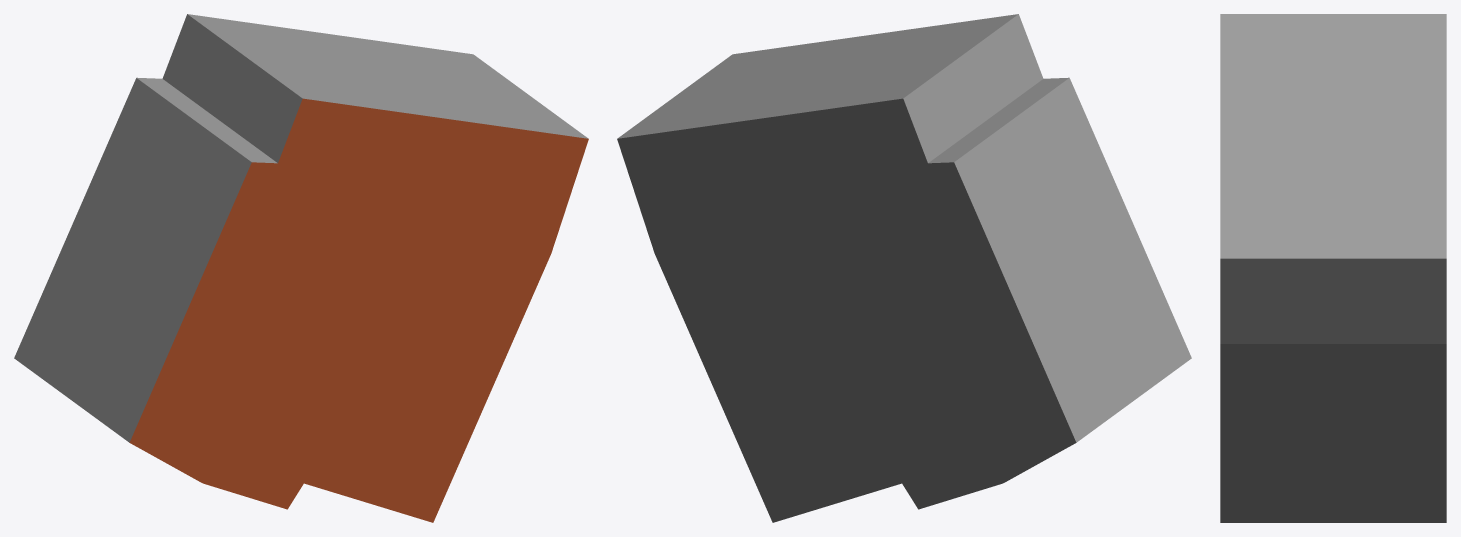
File: construction_3723_assumed_A_Casa_h6m.obj
The picture shows the model from 3 angles, left to right: view 1: azimuth 30°, elevation 25°; view 2: azimuth 150°, elevation 25°; view 3: azimuth 270°, elevation 25°; orthographic projection. The views are drawn at different scales.
Parts seen in each view (by area): view 1: construction_3723_assumed_A_Casa; view 2: construction_3723_assumed_A_Casa; view 3: construction_3723_assumed_A_Casa.
Boxes of the visible parts, left/top/right/bottom form: construction_3723_assumed_A_Casa: left=14, top=14, right=588, bottom=522; construction_3723_assumed_A_Casa: left=617, top=14, right=1191, bottom=522; construction_3723_assumed_A_Casa: left=1220, top=14, right=1446, bottom=522.
Bounding box in the file's own units: 13.78 × 13.08 × 6.
